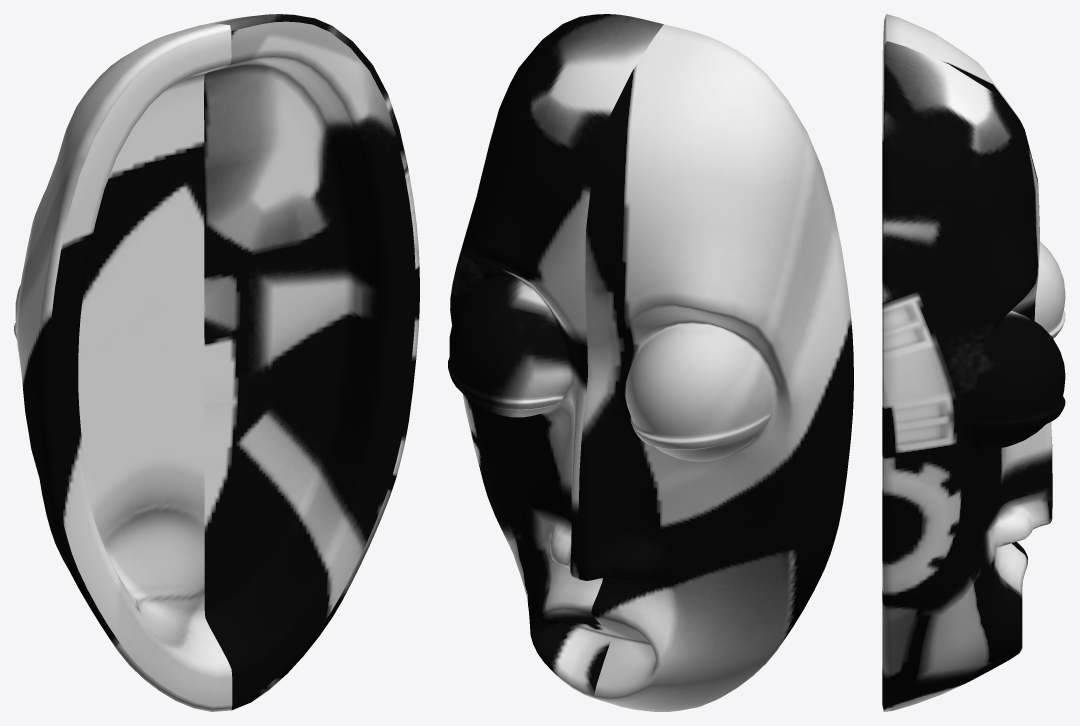
File: africanHead.gltf
The picture shows the model from 3 angles, left to right: view 1: azimuth 30°, elevation 25°; view 2: azimuth 150°, elevation 25°; view 3: azimuth 270°, elevation 25°; orthographic projection. The views are drawn at different scales.
Parts seen in each view (by area): view 1: Plane.009; view 2: Plane.009; view 3: Plane.009.
Boxes of the visible parts, x1,y1,x2,y2 form: Plane.009: (14,14,419,711); Plane.009: (448,14,853,711); Plane.009: (882,14,1065,711).
Bounding box in the file's own units: 7.83 × 13.57 × 3.39.
1 material, 1 textured.
